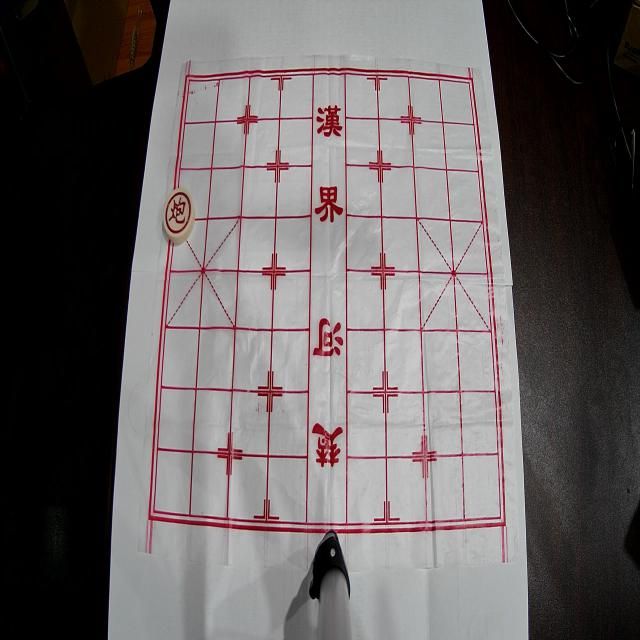red-cannon: (163, 188, 195, 243)
